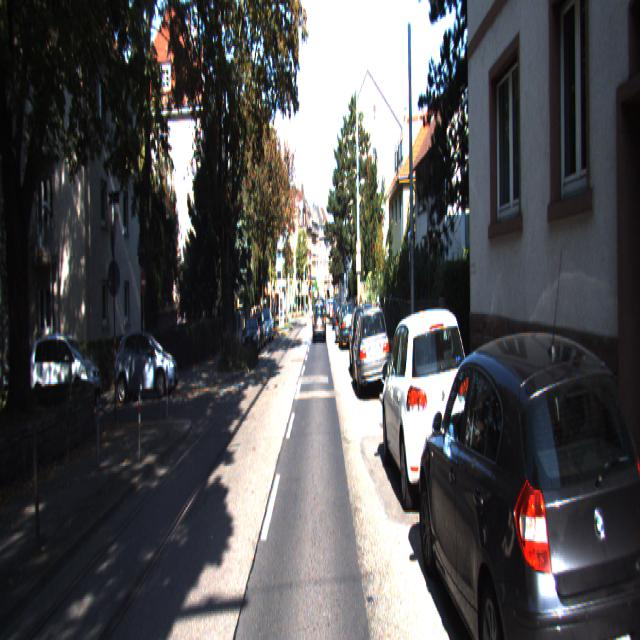Car: (419, 311, 639, 638), (381, 303, 476, 525), (28, 332, 104, 412), (113, 328, 180, 406), (352, 305, 390, 402), (348, 304, 376, 384), (338, 301, 357, 351), (0, 337, 10, 412), (312, 302, 326, 345)
